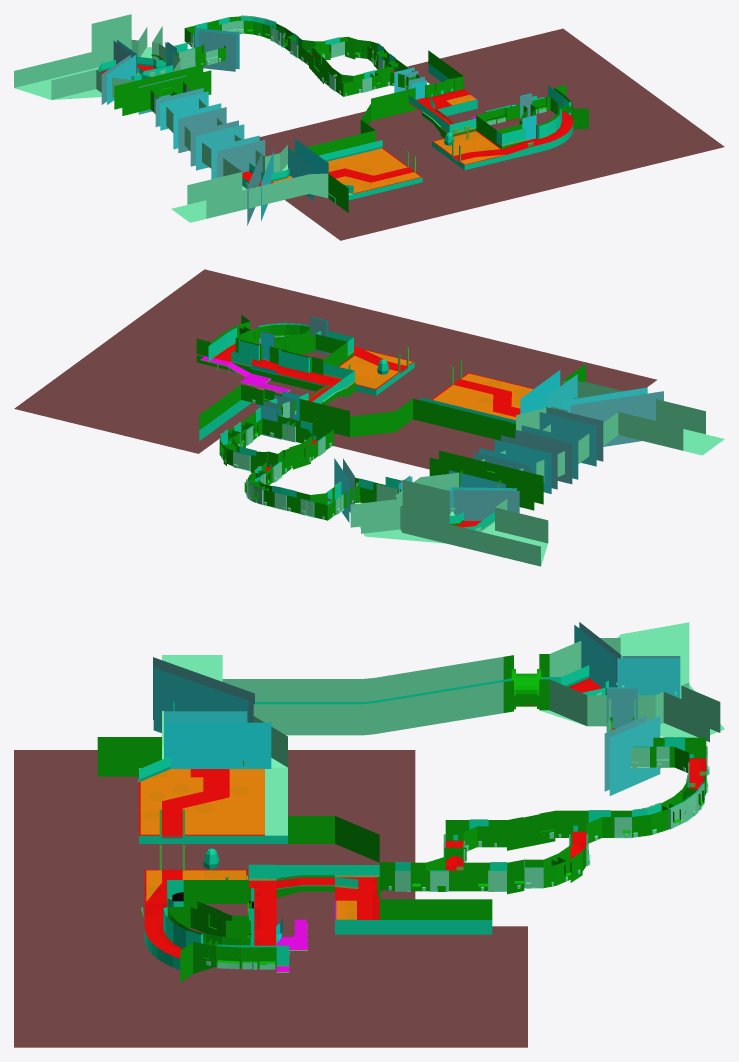
The model's file is delfino_collision.glb.
3 views of the same model, one above another, from view 1: azimuth 30°, elevation 25°; view 2: azimuth 150°, elevation 25°; view 3: azimuth 270°, elevation 25° (orthographic). The views are drawn at different scales.
Visible parts, largest first — view 1: course.023, course.014, course.022, course.021, course.027, course.026, course.006, course.001, course.019, course.011, course.028, course.030 (+5 smaller); view 2: course.023, course.014, course.022, course.027, course.021, course.026, course.001, course.006, course.028, course.011, course.029, course.019 (+4 smaller); view 3: course.023, course.014, course.022, course.001, course.026, course.021, course.006, course.011, course.029, course.019, course.031, course.027 (+3 smaller).
Part boxes in pixels (x1,y1,x2,y2): course.023: [259, 28, 724, 240]; course.014: [114, 16, 588, 212]; course.022: [14, 14, 546, 218]; course.021: [97, 16, 572, 192]; course.027: [101, 40, 265, 225]; course.026: [107, 40, 313, 221]; course.006: [272, 97, 504, 193]; course.001: [104, 65, 573, 193]; course.019: [335, 63, 573, 203]; course.011: [14, 41, 440, 222]; course.028: [196, 124, 259, 179]; course.030: [167, 31, 424, 90]; course.023: [14, 269, 657, 469]; course.014: [196, 315, 585, 525]; course.022: [220, 336, 705, 566]; course.027: [449, 391, 663, 520]; course.021: [208, 323, 577, 530]; course.026: [401, 374, 647, 511]; course.001: [216, 342, 533, 527]; course.006: [257, 350, 533, 420]; course.028: [521, 412, 596, 479]; course.011: [233, 388, 724, 565]; course.029: [260, 316, 560, 420]; course.019: [199, 343, 414, 440]; course.023: [14, 750, 527, 1047]; course.014: [97, 654, 706, 982]; course.022: [138, 638, 720, 969]; course.001: [139, 680, 699, 958]; course.026: [153, 625, 680, 732]; course.021: [139, 665, 702, 965]; course.006: [140, 769, 348, 919]; course.011: [139, 622, 724, 891]; course.029: [164, 722, 271, 768]; course.019: [139, 835, 492, 969]; course.031: [609, 716, 660, 795]; course.027: [153, 622, 680, 722].
Bounding box in the file's own units: 1147 × 166 × 893.
